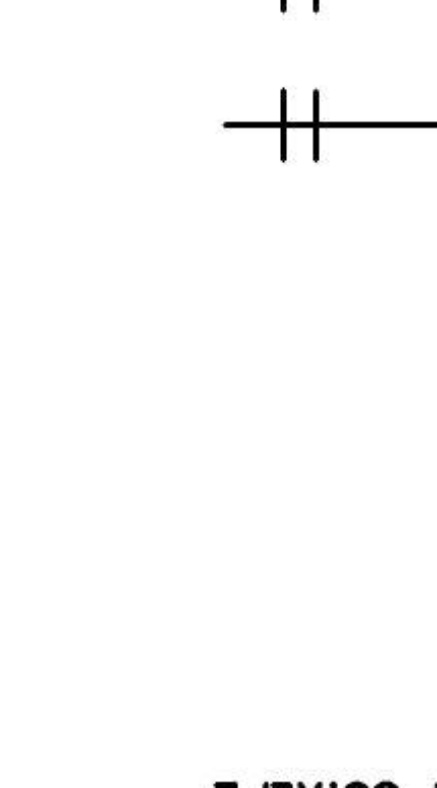115_buffer: (280, 87, 319, 163)
